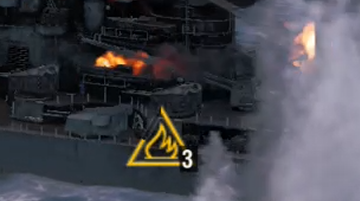3fire: (122, 132, 200, 173)
